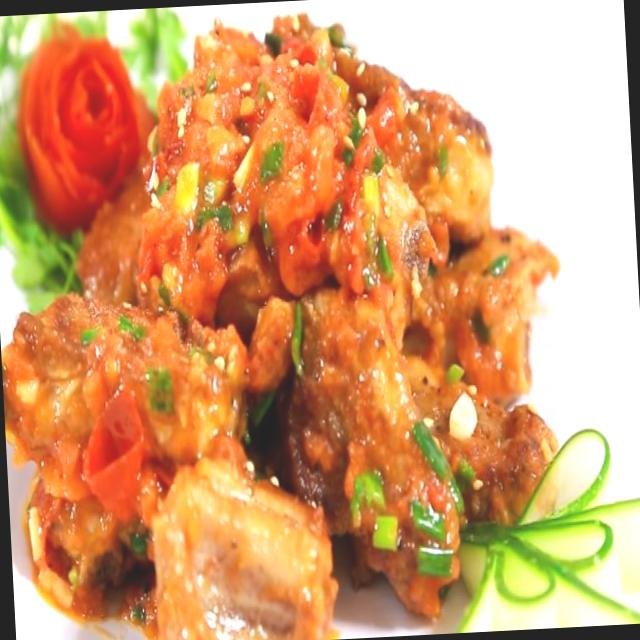suon xao: (1, 14, 559, 640)
